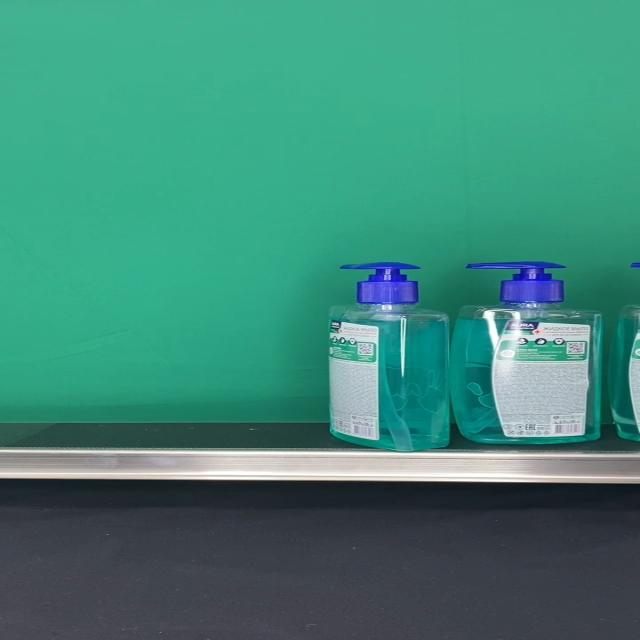Bottle: (451, 260, 602, 444), (326, 262, 450, 450)
Cap: (467, 261, 567, 302), (340, 262, 420, 304)
